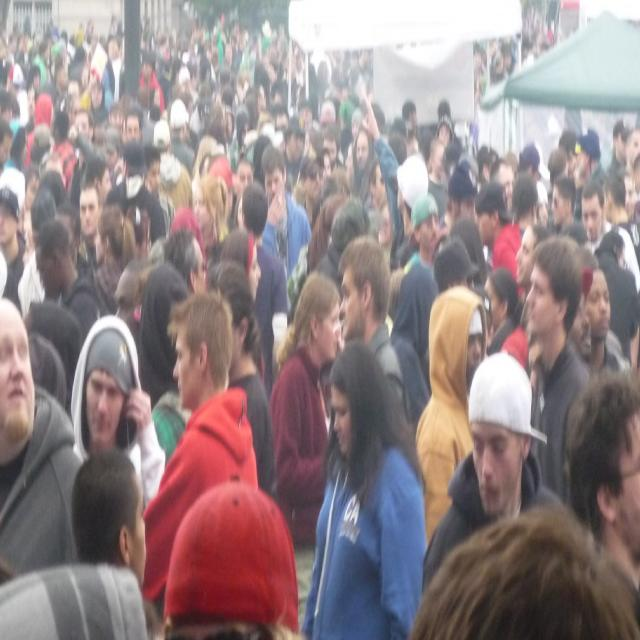Glasses: (101, 178, 111, 182)
